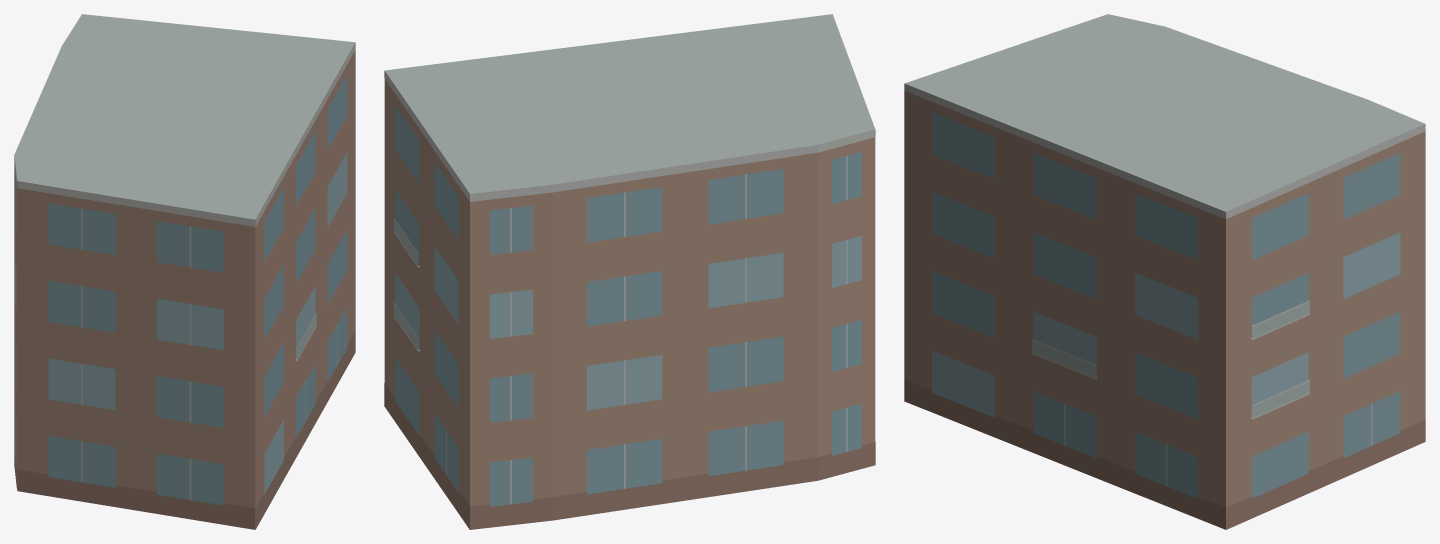
The model's file is survey-upis-32941129.glb.
3 renders of one model, left to right at view 1: azimuth 30°, elevation 25°; view 2: azimuth 150°, elevation 25°; view 3: azimuth 270°, elevation 25°, orthographic. The views are drawn at different scales.
Parts seen in each view (by area): view 1: survey-upis-32941129.tmp; view 2: survey-upis-32941129.tmp; view 3: survey-upis-32941129.tmp.
Part boxes in pixels (left/top/right/bottom): survey-upis-32941129.tmp: left=14, top=14, right=355, bottom=529; survey-upis-32941129.tmp: left=384, top=14, right=875, bottom=529; survey-upis-32941129.tmp: left=904, top=14, right=1425, bottom=529.
Size of the model in its own units: 14.1 by 10.55 by 15.68.
